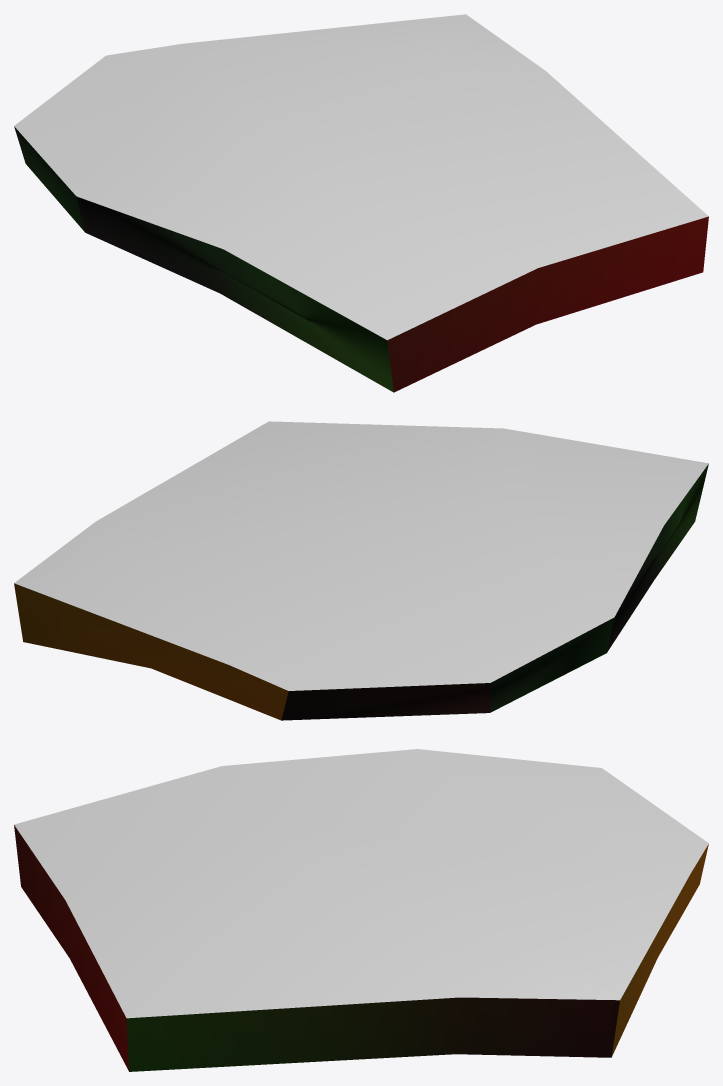
File: Part_3_Roof Piece_10.fbx
3 views of the same model, one above another, from view 1: azimuth 30°, elevation 25°; view 2: azimuth 150°, elevation 25°; view 3: azimuth 270°, elevation 25° (orthographic).
Visible parts, largest first — view 1: Part_3_Roof Piece_10; view 2: Part_3_Roof Piece_10; view 3: Part_3_Roof Piece_10.
Boxes of the visible parts, bbox=[...] form: Part_3_Roof Piece_10: bbox=[14, 14, 708, 392]; Part_3_Roof Piece_10: bbox=[14, 421, 708, 720]; Part_3_Roof Piece_10: bbox=[14, 749, 708, 1071].
Size of the model in its own units: 12.35 by 2.47 by 15.16.
